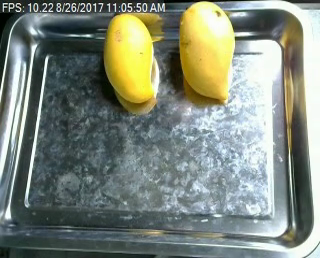Mango: (179, 1, 233, 103), (99, 12, 160, 100)
